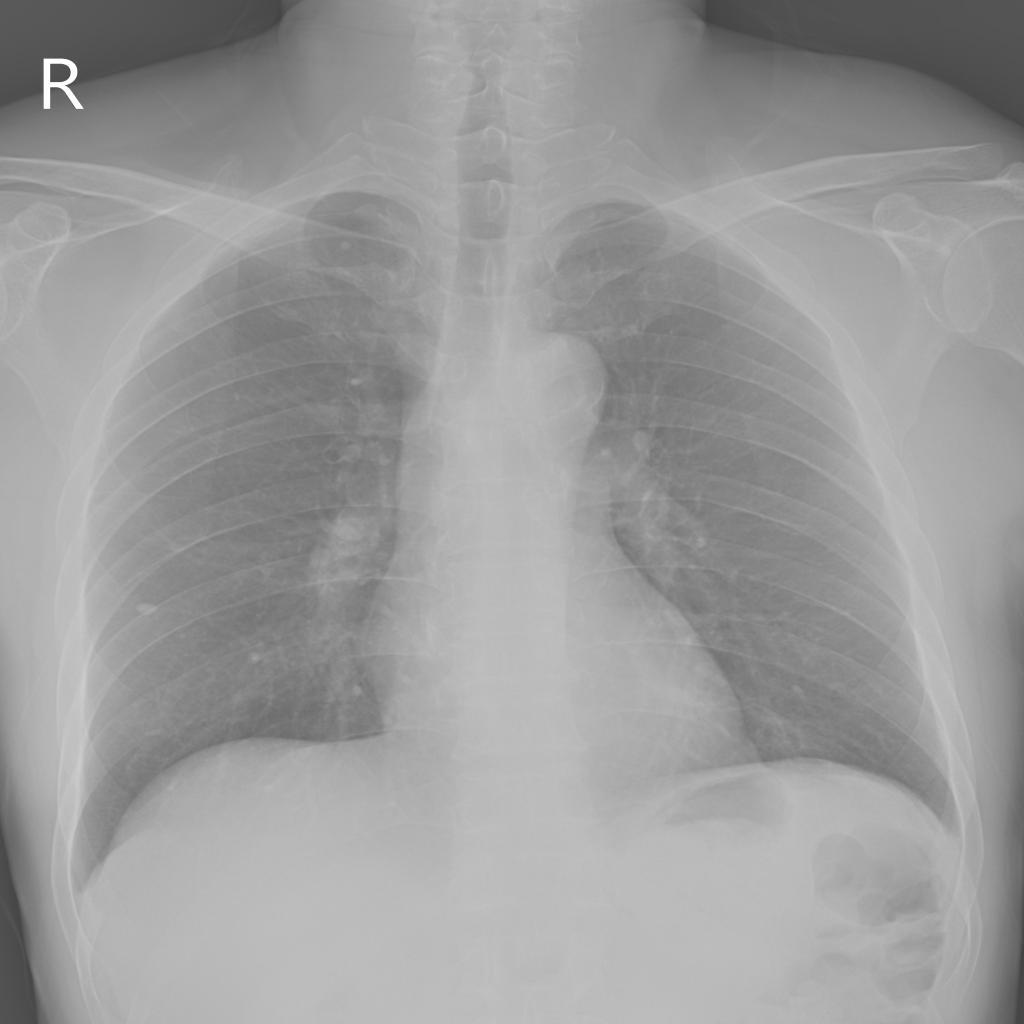Nodule: (135, 602, 158, 619), (338, 241, 353, 252)
